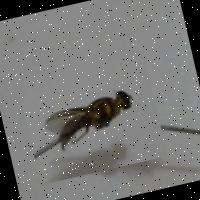Oriental-fruit-fly: (20, 66, 167, 184)
